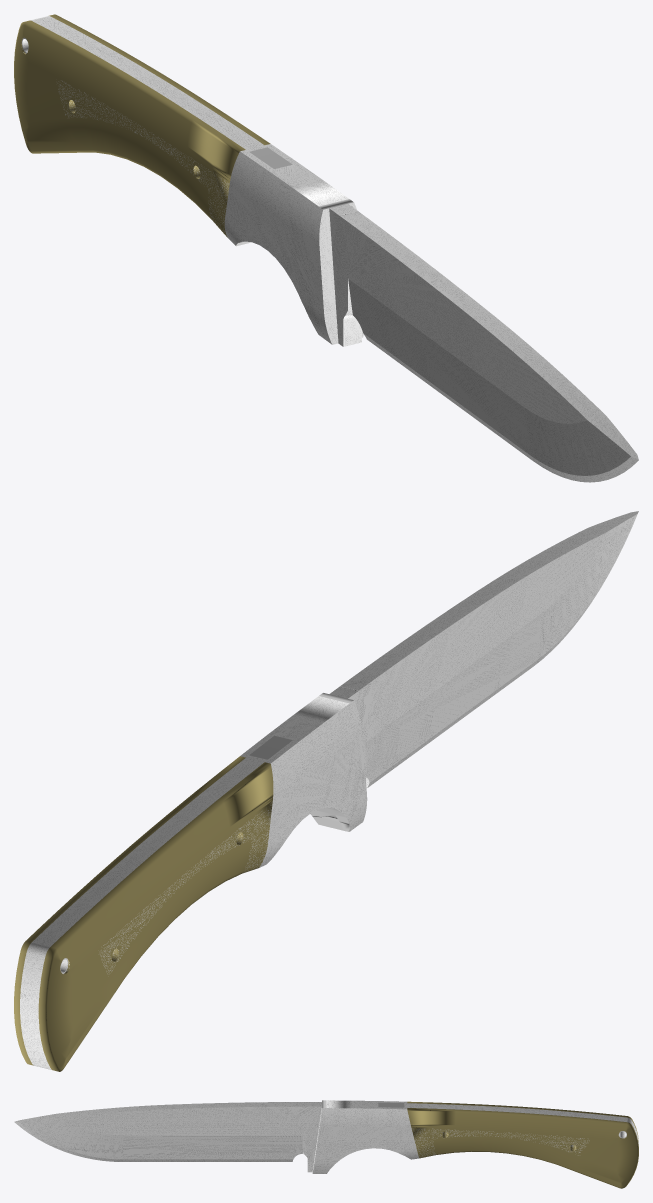
Rendered from model_scale.obj.
3 views of the same model, one above another, from view 1: azimuth 30°, elevation 25°; view 2: azimuth 150°, elevation 25°; view 3: azimuth 270°, elevation 25° (orthographic). The views are drawn at different scales.
Parts seen in each view (by area): view 1: mesh1_mesh1-geometry; view 2: mesh1_mesh1-geometry; view 3: mesh1_mesh1-geometry.
Boxes of the visible parts, left/top/right/bottom form: mesh1_mesh1-geometry: left=14, top=14, right=638, bottom=482; mesh1_mesh1-geometry: left=14, top=511, right=638, bottom=1071; mesh1_mesh1-geometry: left=14, top=1100, right=638, bottom=1188.
Bounding box in the file's own units: 0.00881 × 0.0308 × 0.2169.
